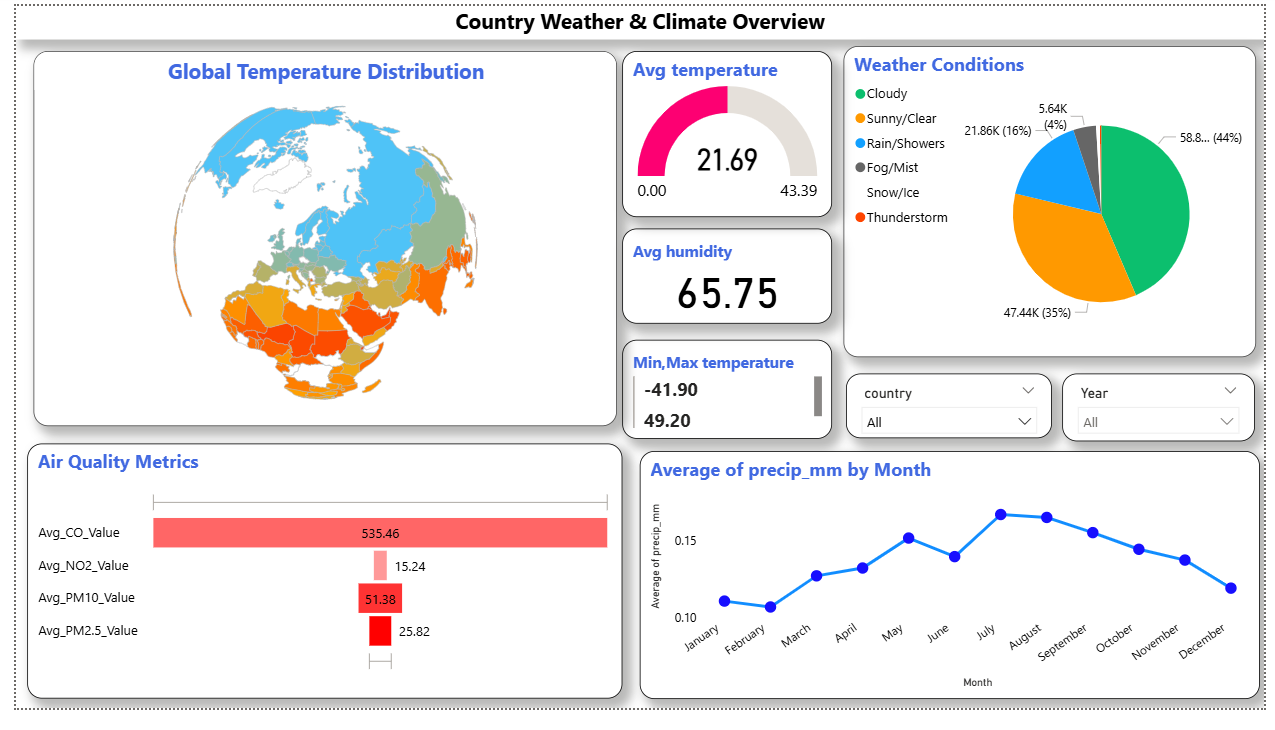

The page's visual inventory and layout, read from the dashboard file:
{"tool":"powerbi","page":{"name":"Country Weather & Climate Overview","canvas":[1280,720],"ordinal":1},"visuals":[{"type":"textbox","title":"Country Weather & Climate Overview","box":[0,0,1280.2,34.6],"z":0},{"type":"funnel","title":"Air Quality Metrics","fields":{"Y":["in.Avg_CO_Value","in.Avg_NO2_Value","in.Avg_PM10_Value","in.Avg_PM2.5_Value"]},"box":[12,449.3,610.7,261.3],"z":1000},{"type":"card","fields":{"Values":["Max(in.temperature_celsius)"]},"box":[622.7,324,216,117.3],"z":2000},{"type":"card","fields":{"Values":["Min(in.temperature_celsius)"]},"box":[622.7,212,216,101.3],"z":3000},{"type":"pieChart","title":"Weather Conditions","fields":{"Category":["in.Condition_Category"],"Y":["CountNonNull(in.Condition_Category)"]},"box":[848,52,422.7,320],"z":4000},{"type":"shapeMap","title":"Global Temperature Distribution","fields":{"Category":["in.country"],"Value":["Avg(in.temperature_celsius)"]},"box":[9.3,46.5,598.8,383.7],"z":5000},{"type":"gauge","fields":{"Y":["Avg(in.humidity)"]},"box":[622.7,52,216,148],"z":6000},{"type":"slicer","fields":{"Values":["in.country"]},"box":[849.3,377.3,210.7,66.7],"z":7000},{"type":"slicer","fields":{"Values":["in.last_updated.Variation.Date Hierarchy.Year"]},"box":[1073.3,377.3,197.3,69.3],"z":8000},{"type":"lineChart","fields":{"Category":["in.last_updated.Variation.Date Hierarchy.Month"],"Y":["Avg(in.precip_mm)"]},"box":[639.5,455.8,636,254.7],"z":9001}]}

Visuals, with their boxes in screenshot pixels (x1, y1, x2, y2), scaled from the page's 1280x720 canvas onto the 1275x730 screenshot:
"Country Weather & Climate Overview" textbox: 0,0,1274,35
"Air Quality Metrics" funnel: 12,456,620,720
card - Max(in.temperature_celsius): 620,328,835,447
card - Min(in.temperature_celsius): 620,215,835,318
"Weather Conditions" pieChart: 845,53,1266,377
"Global Temperature Distribution" shapeMap: 9,47,606,436
gauge - Avg(in.humidity): 620,53,835,203
slicer - in.country: 846,383,1056,450
slicer - in.last_updated.Variation.Date Hierarchy.Year: 1069,383,1266,453
lineChart - in.last_updated.Variation.Date Hierarchy.Month x Avg(in.precip_mm): 637,462,1271,720
